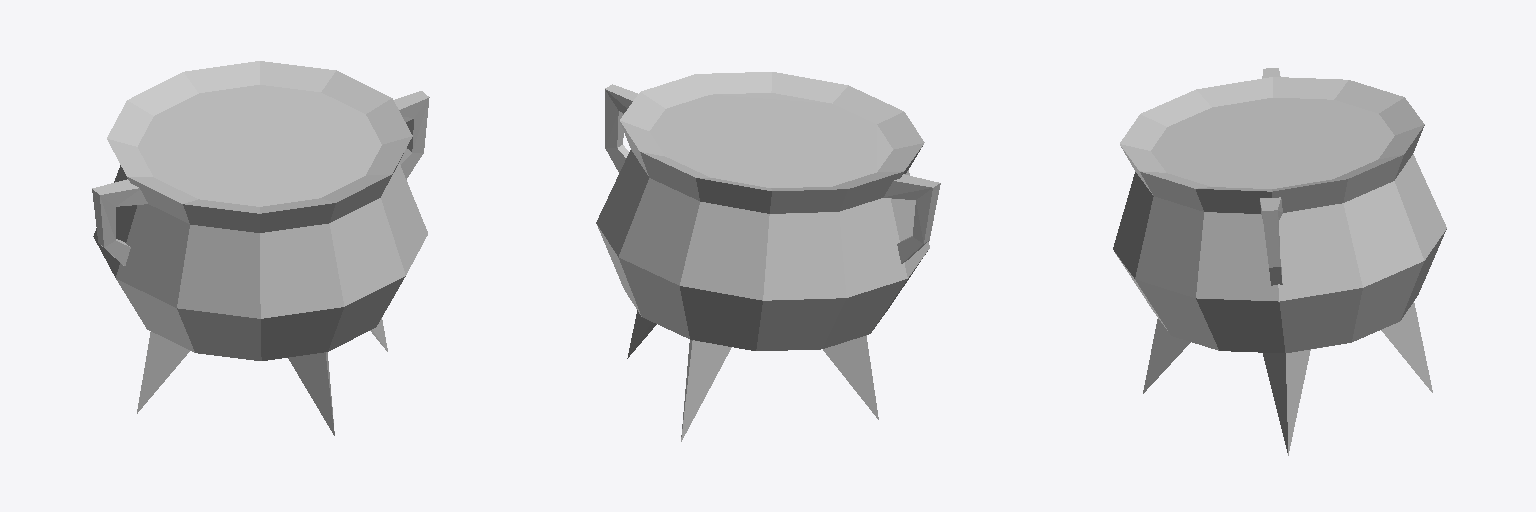
The model's file is cauldron.obj.
3 views of the same model, side by side, from view 1: azimuth 30°, elevation 25°; view 2: azimuth 150°, elevation 25°; view 3: azimuth 270°, elevation 25° (orthographic).
Parts seen in each view (by area): view 1: World_Skillactivated_tradeskillenablers_tradeskill_alchemycauld; view 2: World_Skillactivated_tradeskillenablers_tradeskill_alchemycauld; view 3: World_Skillactivated_tradeskillenablers_tradeskill_alchemycauld.
Boxes of the visible parts, box(x1,y1,x2,y2) form: World_Skillactivated_tradeskillenablers_tradeskill_alchemycauld: box(92, 61, 429, 435); World_Skillactivated_tradeskillenablers_tradeskill_alchemycauld: box(596, 72, 940, 441); World_Skillactivated_tradeskillenablers_tradeskill_alchemycauld: box(1113, 68, 1446, 455).
Bounding box in the file's own units: 1.45 × 1.13 × 1.28.